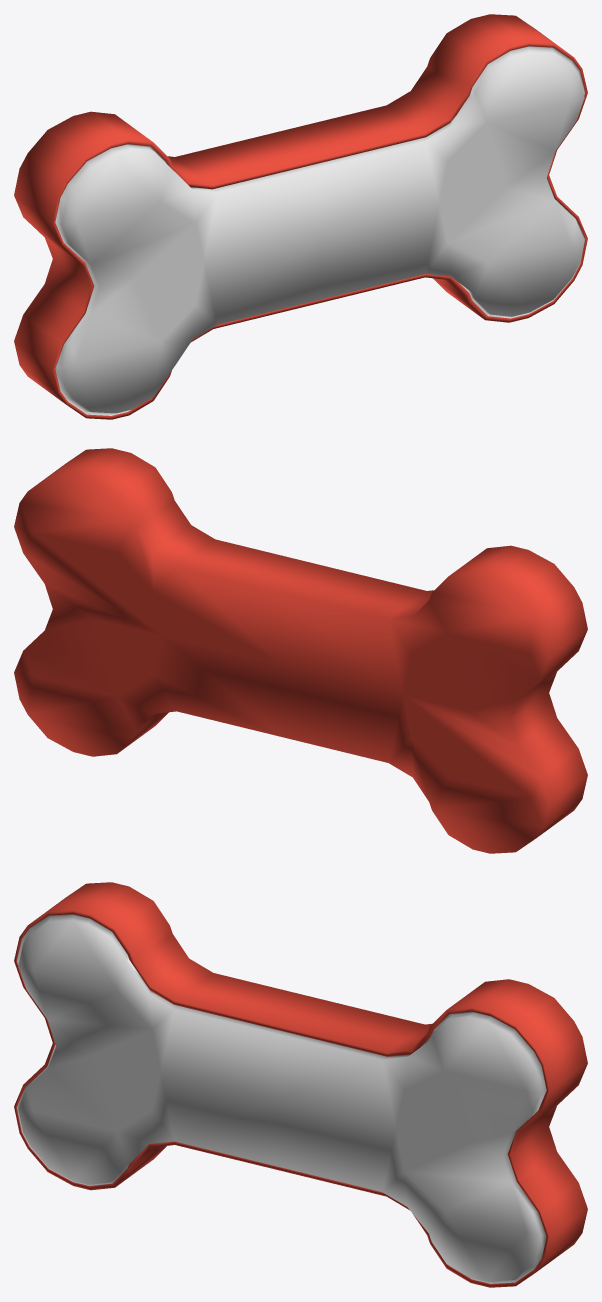
The model's file is deco_bone.fbx.
The picture shows the model from 3 angles, top to bottom: view 1: azimuth 30°, elevation 25°; view 2: azimuth 150°, elevation 25°; view 3: azimuth 330°, elevation 25°; orthographic projection.
Parts seen in each view (by area): view 1: deco_bone; view 2: deco_bone; view 3: deco_bone.
Boxes of the visible parts, box(x1,y1,x2,y2) form: deco_bone: box(14, 14, 587, 419); deco_bone: box(14, 448, 587, 853); deco_bone: box(14, 882, 587, 1287).
Size of the model in its own units: 134 by 17.74 by 65.84.
